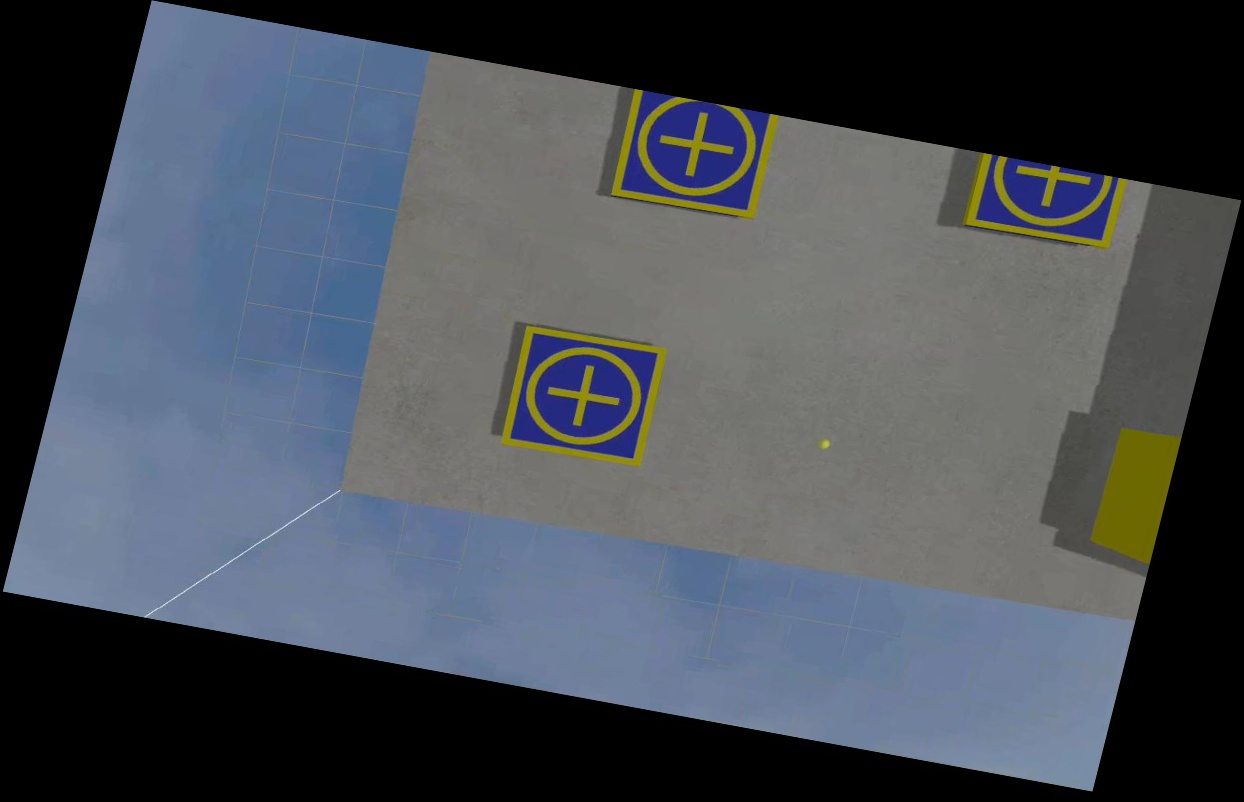small_base: (496, 323, 673, 472), (606, 89, 782, 223), (959, 152, 1130, 252)
